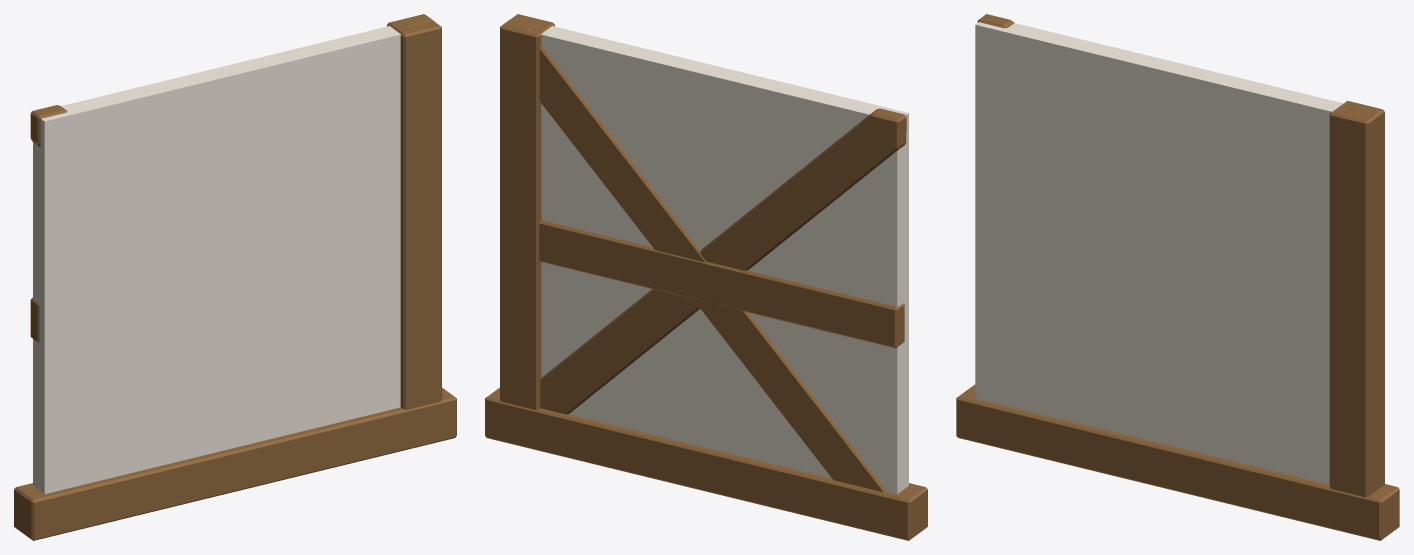
File: WallCrossXH.fbx
The picture shows the model from 3 angles, left to right: view 1: azimuth 30°, elevation 25°; view 2: azimuth 150°, elevation 25°; view 3: azimuth 330°, elevation 25°; orthographic projection.
Visible parts, largest first — view 1: Cube.059, Bottom, Cube.065, Cube.068; view 2: Cube.059, Bottom, Cube.068, Cube.064, Cube.065, Cube.067; view 3: Cube.059, Cube.065, Bottom.
Boxes of the visible parts, bbox=[...] form: Cube.059: bbox=[33, 26, 400, 494]; Bottom: bbox=[14, 387, 456, 540]; Cube.065: bbox=[387, 14, 441, 409]; Cube.068: bbox=[30, 105, 67, 146]; Cube.059: bbox=[541, 26, 908, 494]; Bottom: bbox=[485, 387, 927, 540]; Cube.068: bbox=[540, 108, 906, 414]; Cube.064: bbox=[503, 19, 887, 492]; Cube.065: bbox=[500, 14, 554, 409]; Cube.067: bbox=[539, 220, 904, 348]; Cube.059: bbox=[975, 22, 1343, 484]; Cube.065: bbox=[1329, 100, 1384, 497]; Bottom: bbox=[956, 384, 1399, 540].
Bounding box in the file's own units: 216 × 202 × 17.27.
